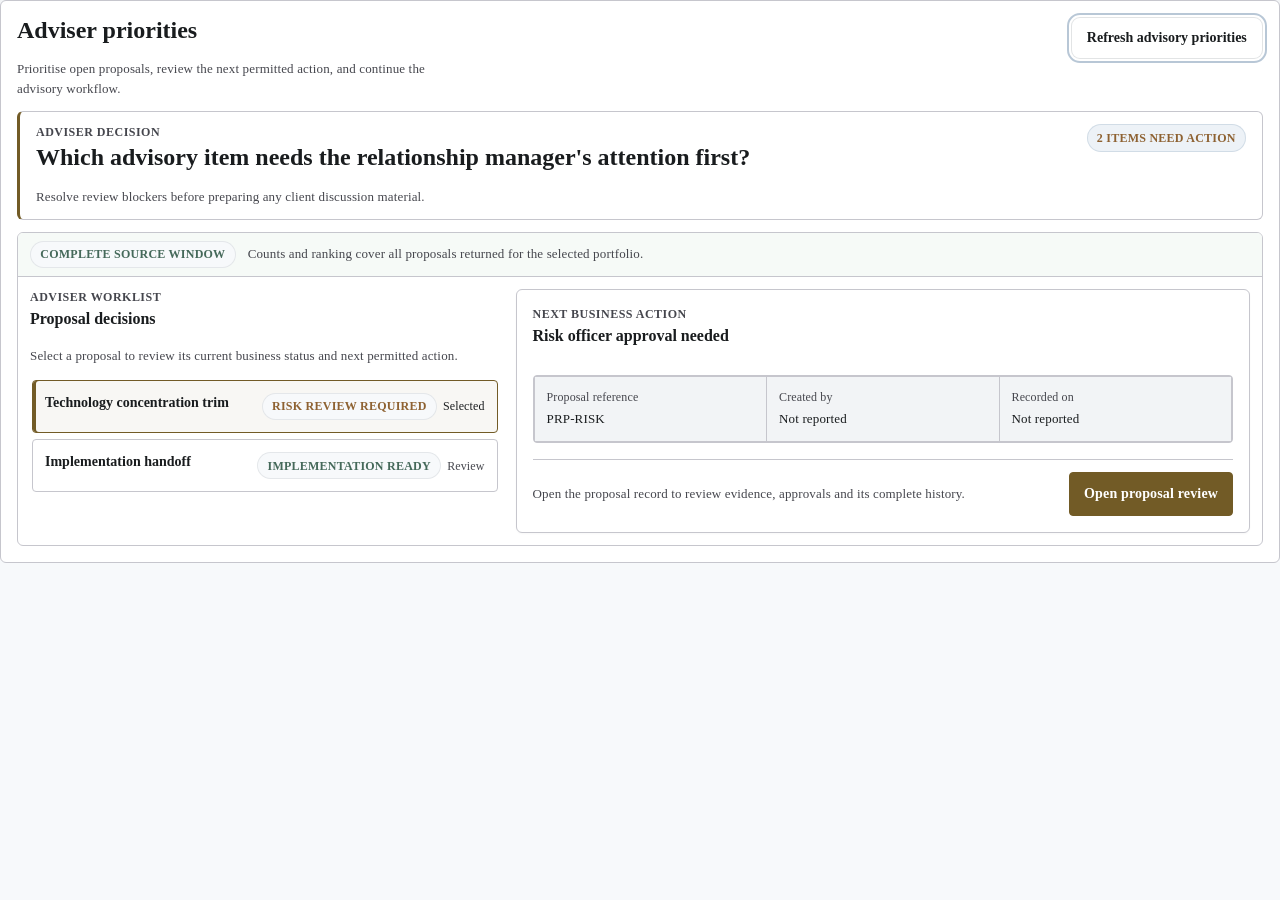
it: AdvisoryOverviewWorkspace › retains earlier proposals until a failed refresh is source-confirmed
Click the button "Refresh advisory priorities": (1167, 38) [1071, 17, 1263, 59]
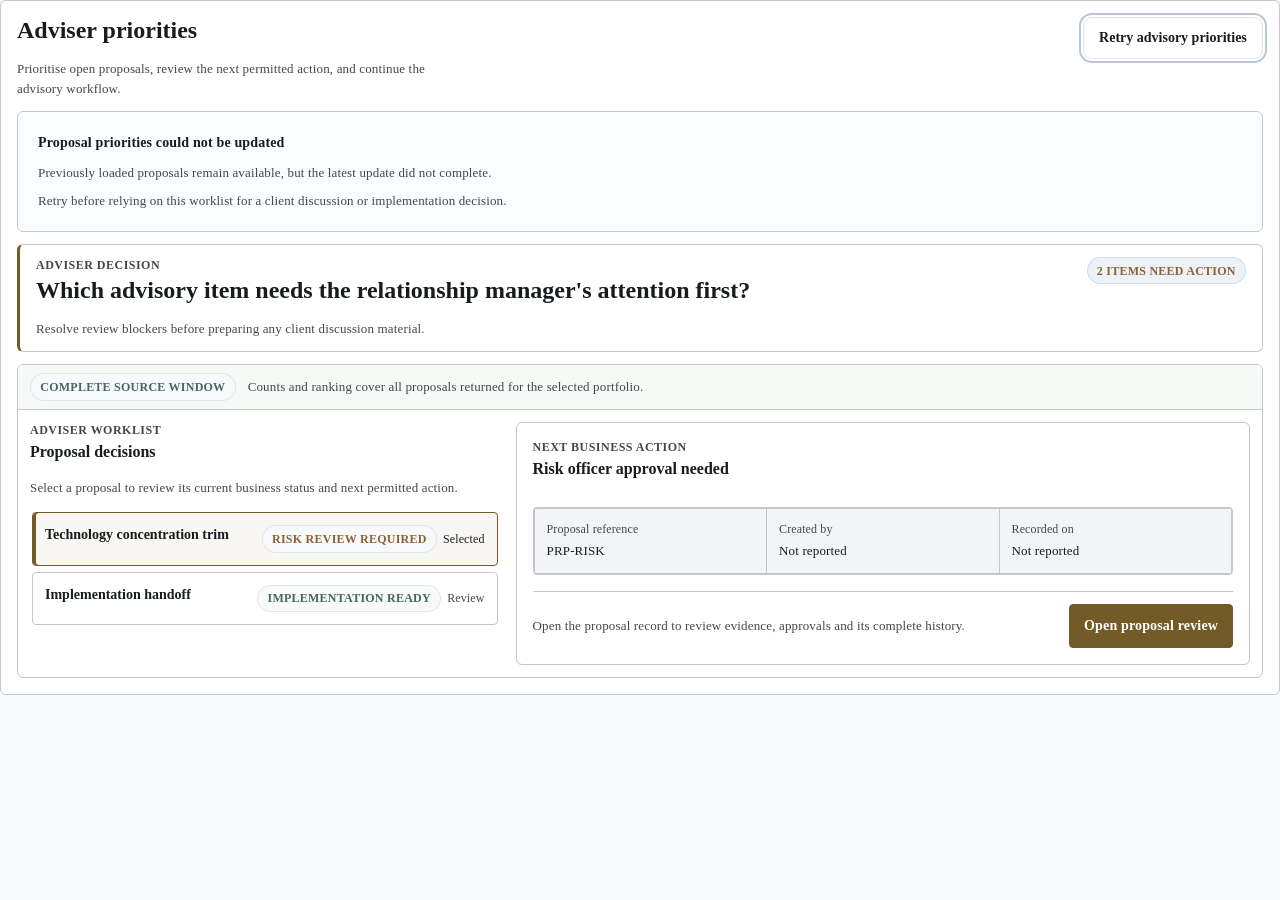
Expected: the text "Technology concentration trim" is shown, [45, 525, 229, 545]
Result: the heading "Proposal priorities could not be updated" is shown at [38, 132, 284, 155]
Click the button "Retry advisory priorities": (1173, 38) [1083, 17, 1263, 59]
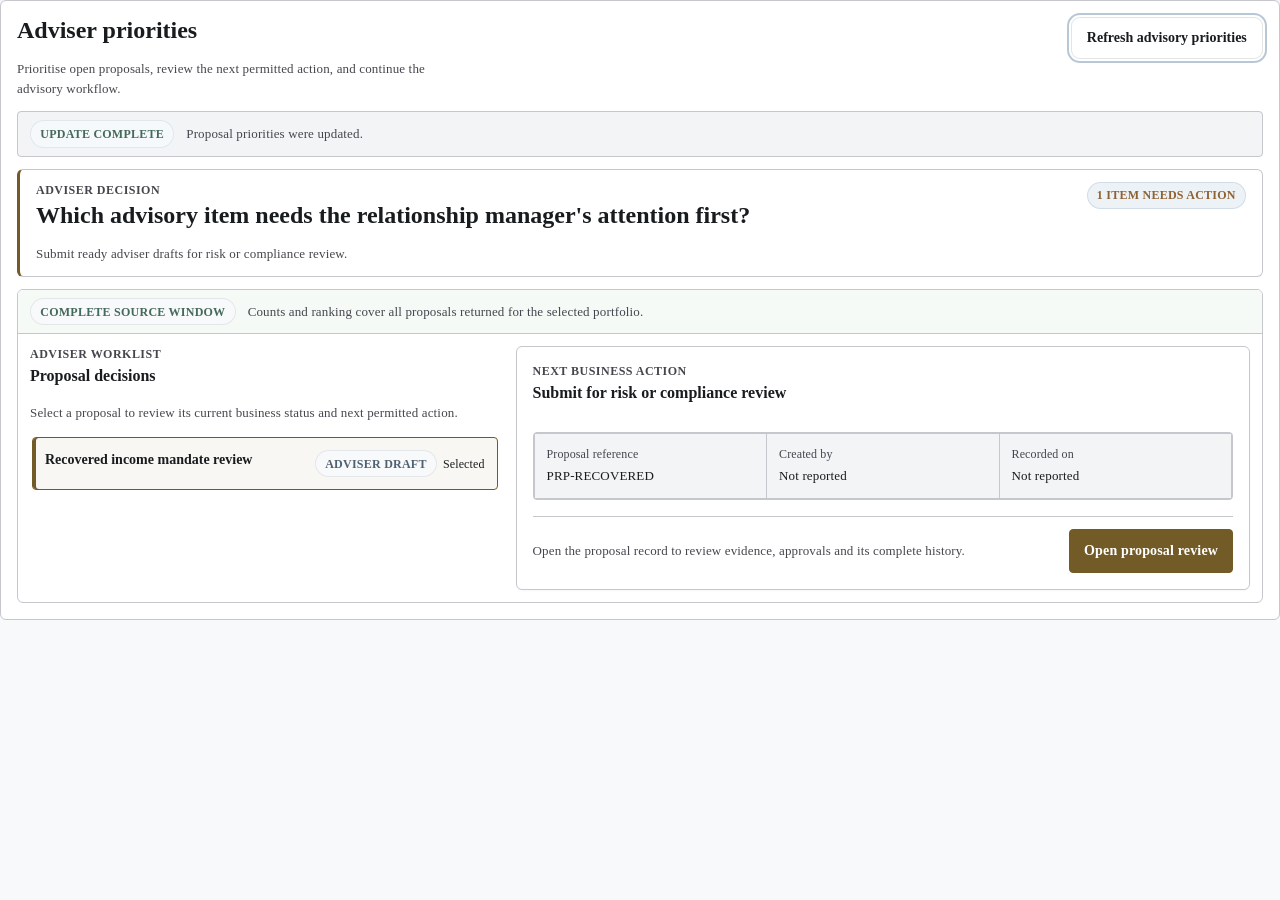
Result: the text "Recovered income mandate review" is shown at [45, 450, 252, 470]
Result: the option "Technology concentration trim" is gone
Result: the text "Proposal priorities were updated." is shown at [186, 124, 363, 144]
